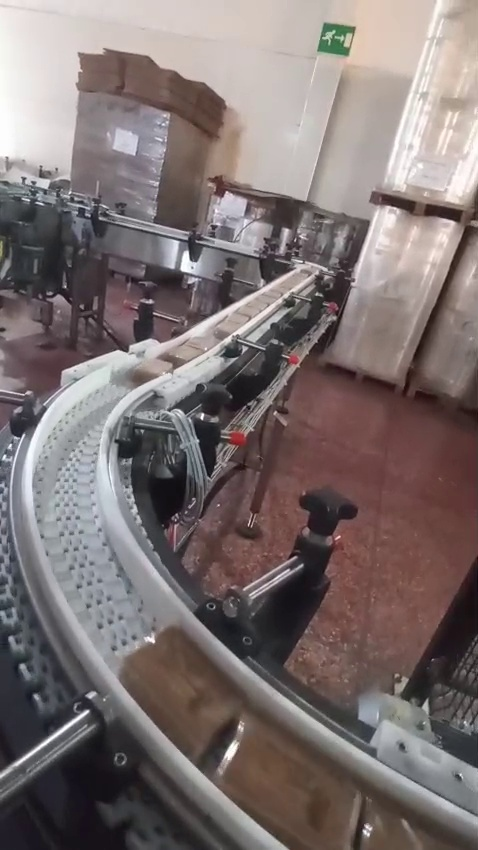savon: (125, 628, 472, 850), (170, 126, 241, 200), (456, 191, 478, 215), (348, 26, 367, 49), (345, 51, 360, 79), (191, 120, 209, 129)
